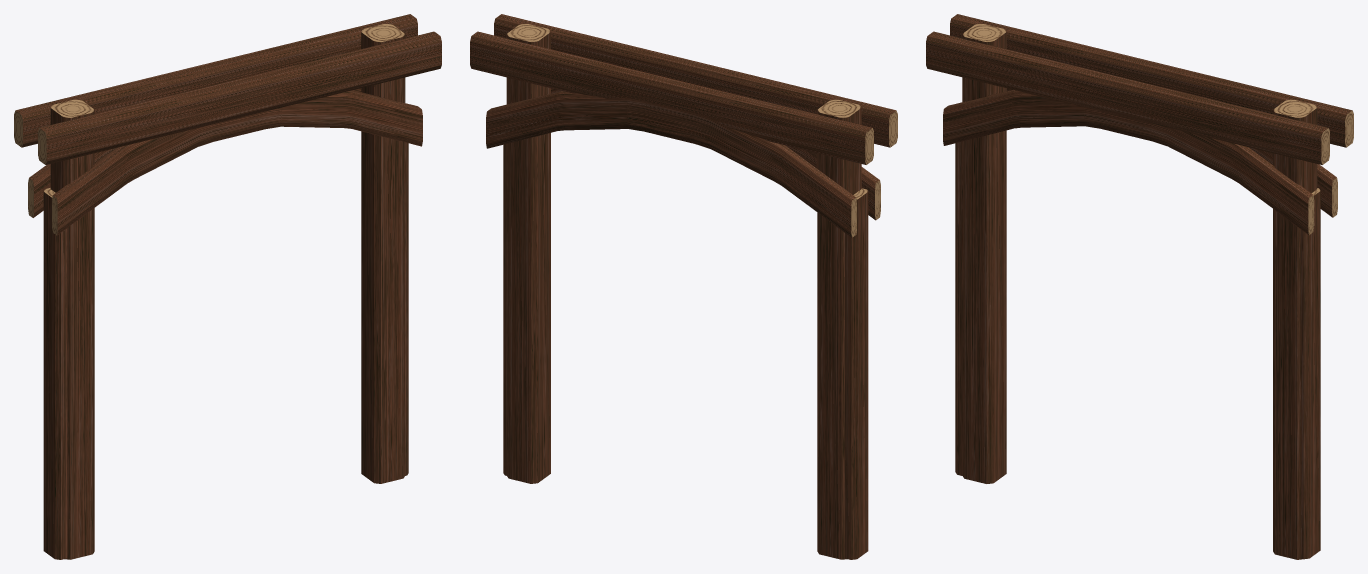
Rendered from gate.fbx.
3 renders of one model, left to right at view 1: azimuth 30°, elevation 25°; view 2: azimuth 150°, elevation 25°; view 3: azimuth 330°, elevation 25°, orthographic.
Parts seen in each view (by area): view 1: Cube.012; view 2: Cube.012; view 3: Cube.012.
Part boxes in pixels (x1=…): Cube.012: x1=14, y1=14, x2=441, y2=559; Cube.012: x1=470, y1=14, x2=897, y2=559; Cube.012: x1=926, y1=14, x2=1353, y2=559.
Size of the model in its own units: 151 by 161 by 21.63.
